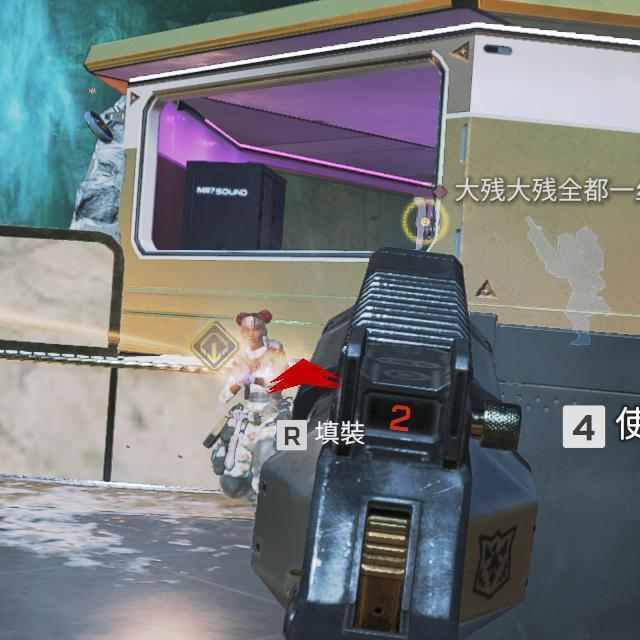avatar: (204, 310, 292, 499)
